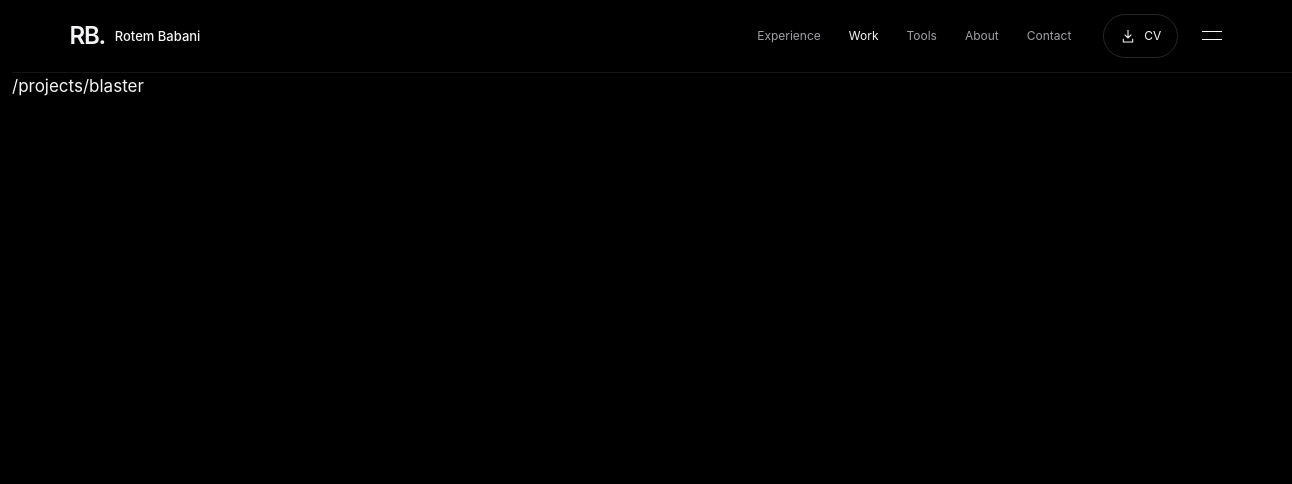
Test: homepage section navigation › returns from an interior page to work through menu navigation
The image size is (1292, 484).
(page scrolled)
Click the button named "Menu". click: (1212,36)
box: x1=1190 y1=14 x2=1234 y2=58
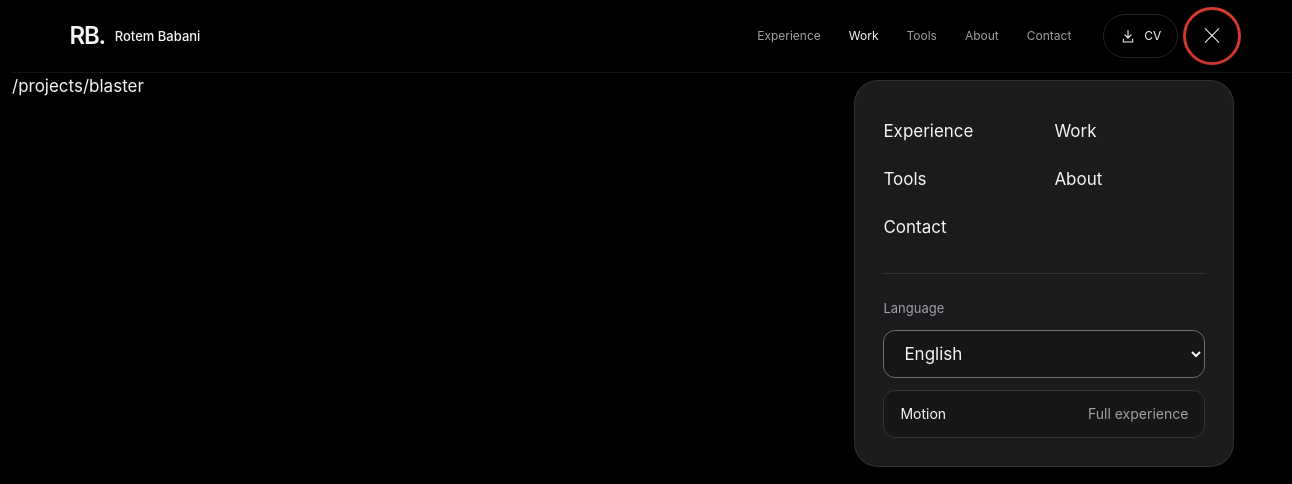
Click the 2nd link "Work". click: (1075,131)
box: x1=1054 y1=121 x2=1096 y2=141
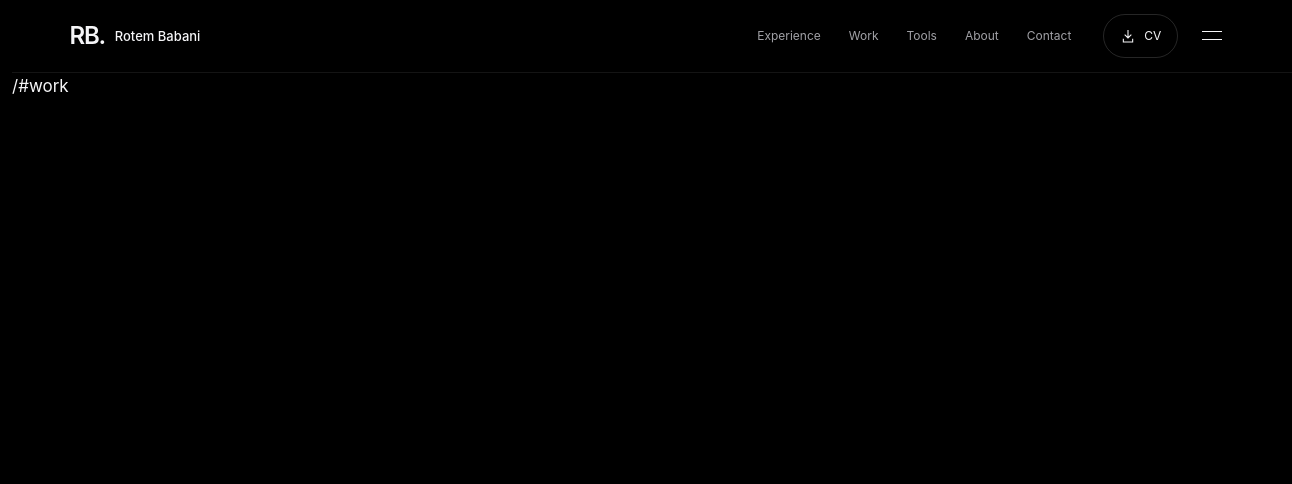
Now the text with test id "location" reads "/#work", box x1=12 y1=76 x2=69 y2=96
Now the button named "Menu" is collapsed, box x1=1190 y1=14 x2=1234 y2=58
